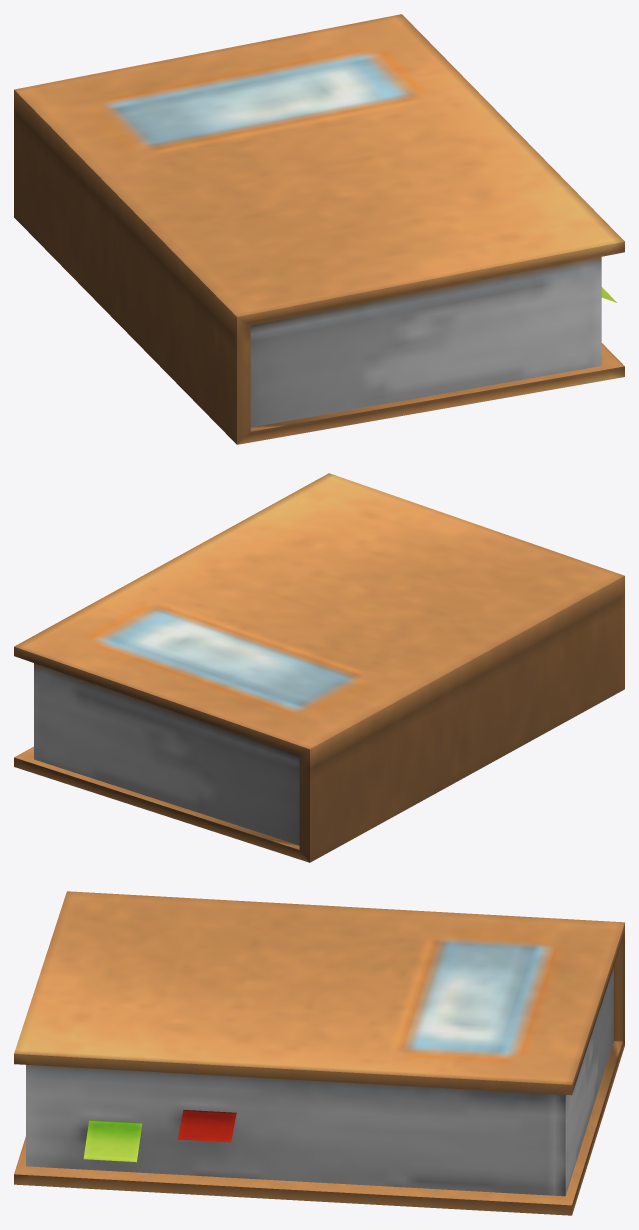
File: G_DanShenHan_shu_01.FBX
The picture shows the model from 3 angles, top to bottom: view 1: azimuth 30°, elevation 25°; view 2: azimuth 150°, elevation 25°; view 3: azimuth 270°, elevation 25°; orthographic projection. The views are drawn at different scales.
Parts seen in each view (by area): view 1: DanShenHan_shu_01; view 2: DanShenHan_shu_01; view 3: DanShenHan_shu_01.
Boxes of the visible parts, x1,y1,x2,y2 form: DanShenHan_shu_01: (14,14,624,444); DanShenHan_shu_01: (14,473,624,862); DanShenHan_shu_01: (14,891,624,1215).
Bounding box in the file's own units: 26.03 × 7.9 × 33.44.
